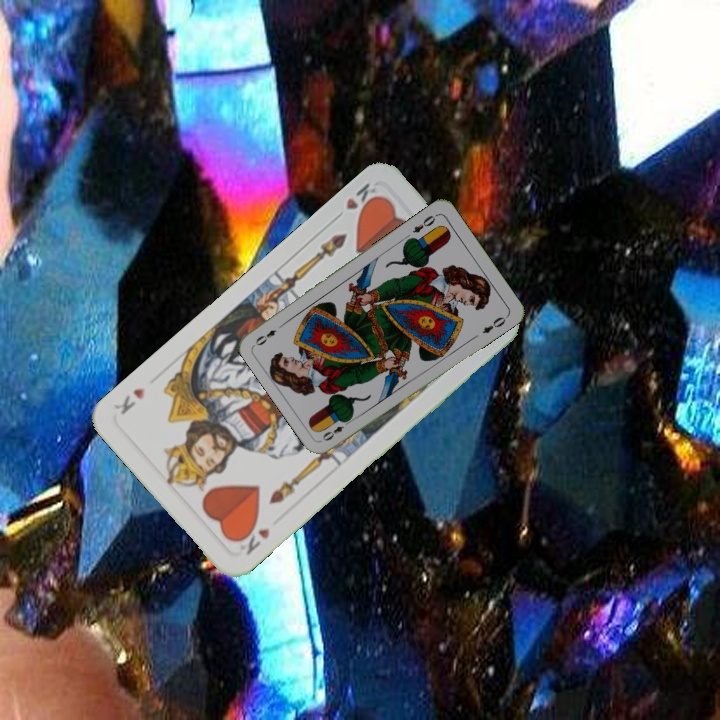EO: (318, 415, 354, 444), (409, 210, 440, 236)
HK: (341, 178, 383, 219), (231, 519, 273, 558)
